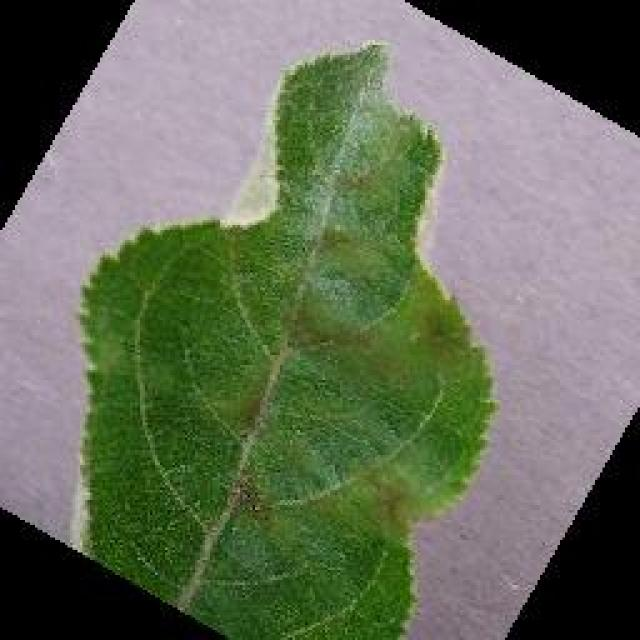apple scab disease: (70, 38, 500, 638)
